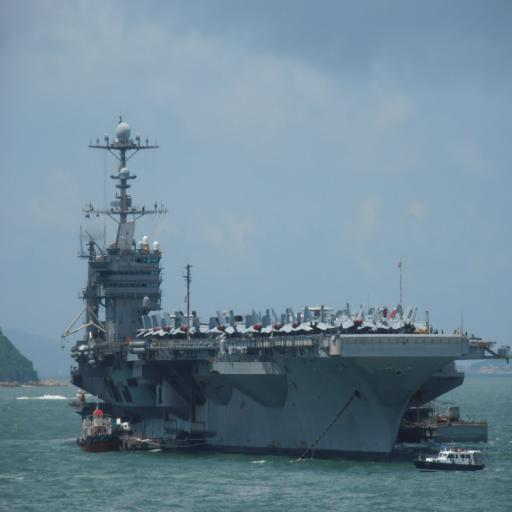Portanaves: (61, 109, 512, 468)
